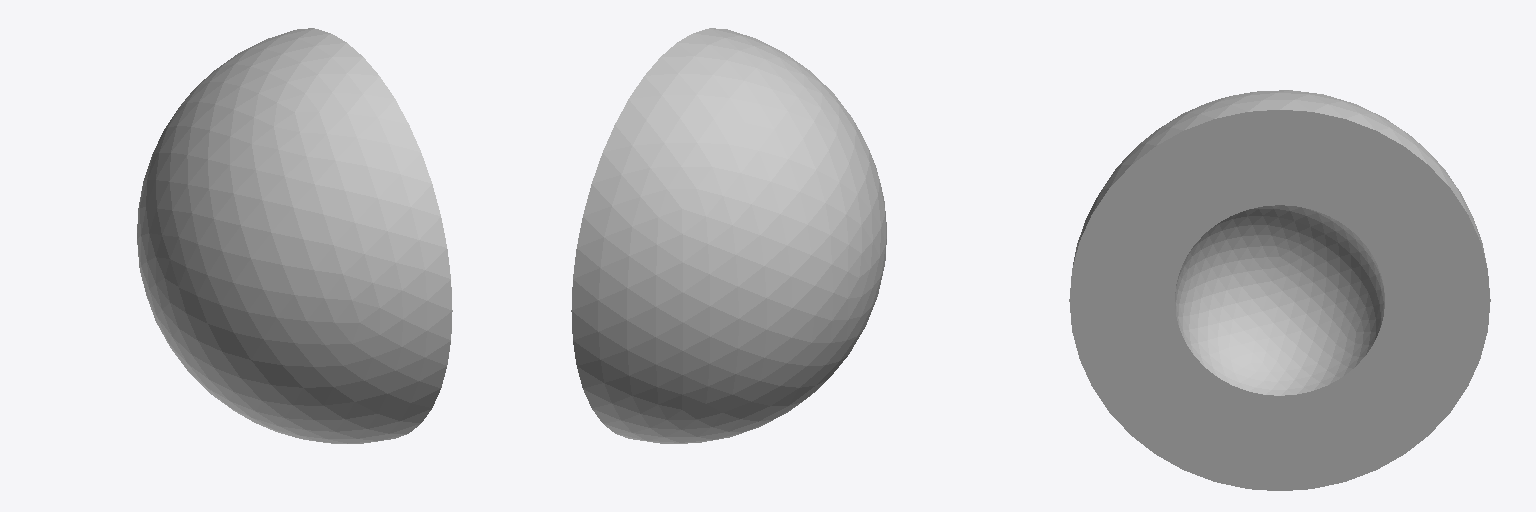
File: shatter_0.obj
3 views of the same model, side by side, from view 1: azimuth 30°, elevation 25°; view 2: azimuth 150°, elevation 25°; view 3: azimuth 270°, elevation 25° (orthographic).
Size of the model in its own units: 10 by 20 by 20.